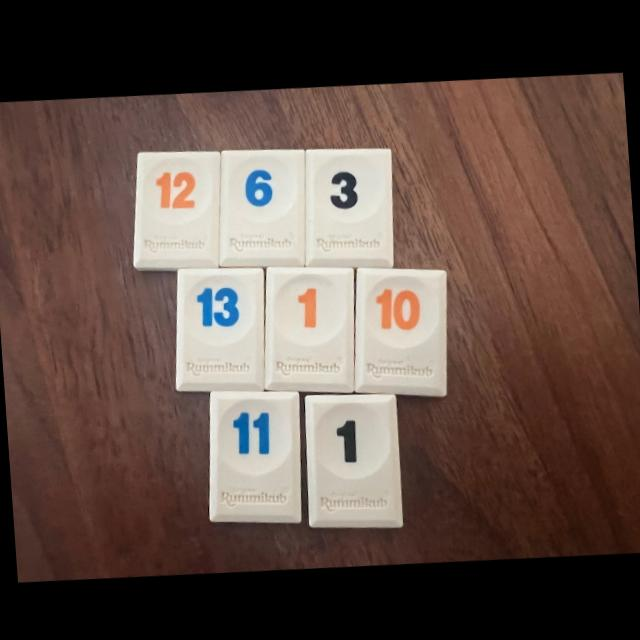black_1: (305, 394, 401, 526)
black_3: (305, 147, 393, 266)
blue_11: (209, 389, 301, 521)
blue_13: (175, 266, 265, 389)
blue_6: (218, 149, 304, 266)
orange_1: (264, 267, 354, 390)
orange_10: (354, 267, 446, 393)
orange_12: (133, 150, 220, 270)
